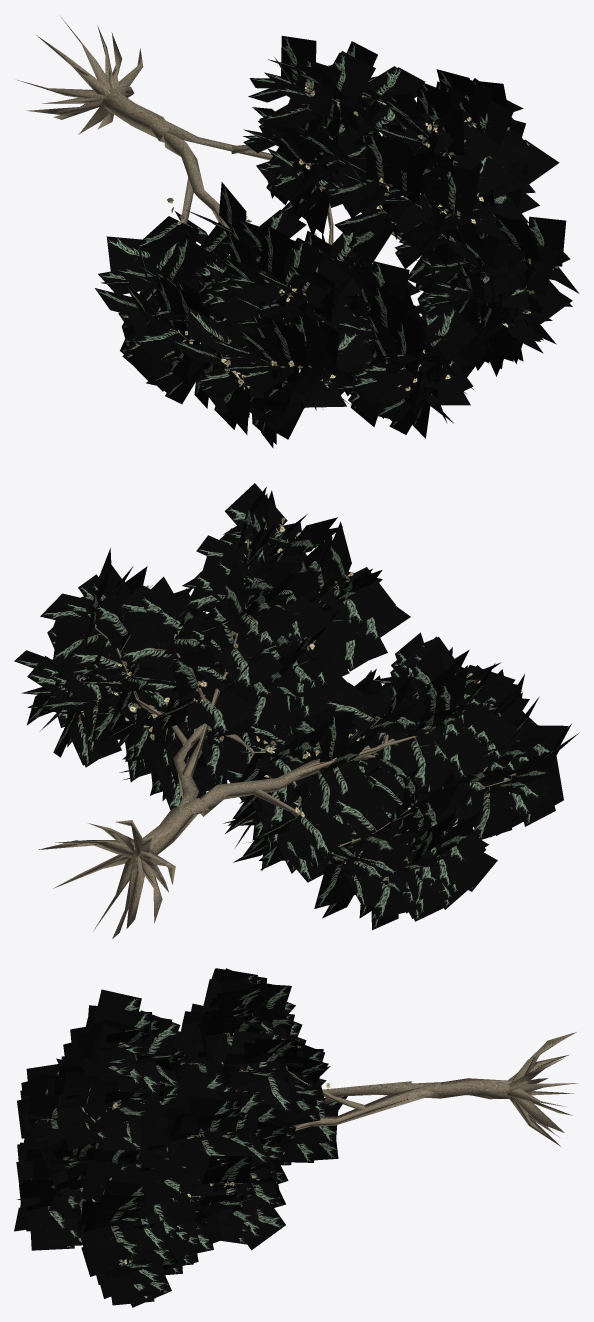
3 renders of one model, top to bottom at view 1: azimuth 30°, elevation 25°; view 2: azimuth 150°, elevation 25°; view 3: azimuth 270°, elevation 25°, orthographic. The views are drawn at different scales.
Parts seen in each view (by area): view 1: OC12_3; view 2: OC12_3; view 3: OC12_3.
Part boxes in pixels (x1=…): OC12_3: x1=17, y1=16, x2=579, y2=448; OC12_3: x1=14, y1=483, x2=578, y2=938; OC12_3: x1=14, y1=968, x2=578, y2=1307.
Bounding box in the file's own units: 10.19 × 7.64 × 13.17.
Materials: 7 (7 with a texture image).
